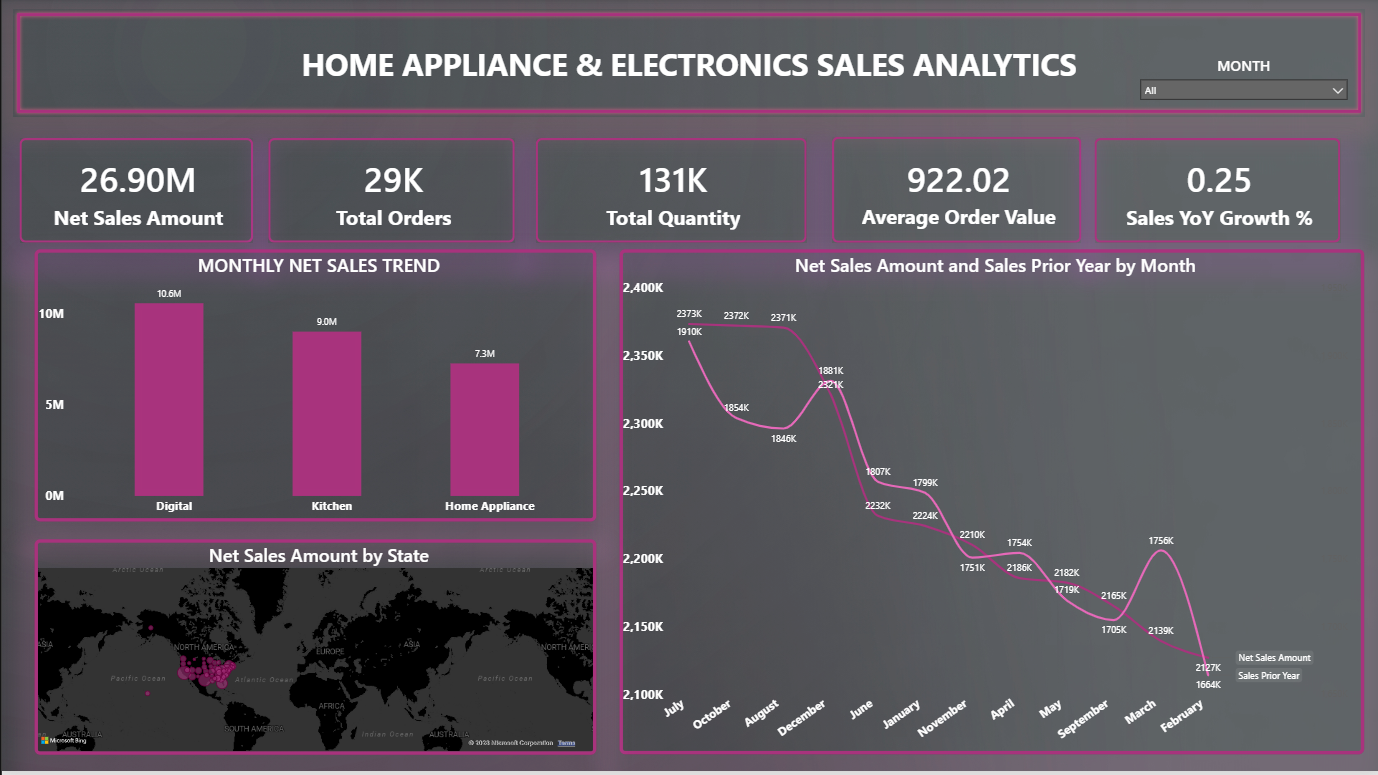

This screenshot's page, from the dashboard's own definition file:
{"tool":"powerbi","page":{"name":"EXECUTIVE SUMMARY","canvas":[1920,1080],"ordinal":0},"visuals":[{"type":"shape","title":"HOME APPLIANCE & ELECTRONICS SALES ANALYTICS","box":[16,16,1886,150],"z":0},{"type":"cardVisual","title":"Net Values Amount","fields":{"Data":["_MEASURES.Net Sales Amount"]},"box":[24,196,326,146],"z":1000},{"type":"cardVisual","fields":{"Data":["_MEASURES.Total Orders"]},"box":[372,196,344,146],"z":2000},{"type":"cardVisual","fields":{"Data":["_MEASURES.Average Order Value"]},"box":[1158,194,348,148],"z":3000},{"type":"cardVisual","fields":{"Data":["_MEASURES.Total Quantity"]},"box":[744,196,378,146],"z":4000},{"type":"cardVisual","fields":{"Data":["Calendar.Sales YoY Growth %"]},"box":[1525.2,195.5,343.7,146.1],"z":5000},{"type":"clusteredColumnChart","title":"MONTHLY NET SALES TREND ","fields":{"Y":["_MEASURES.Net Sales Amount"],"Category":["product.Product Group"]},"box":[46,350,784,380],"z":6000},{"type":"lineChart","fields":{"Y":["_MEASURES.Net Sales Amount"],"Y2":["Calendar.Sales Prior Year"],"Category":["Calendar.Month"]},"box":[861.6,350.6,1039.5,704.7],"z":7000},{"type":"slicer","title":"MONTH","fields":{"Values":["Calendar.Year-Month"]},"box":[1583.3,80,298.3,70],"z":8000},{"type":"map","fields":{"Size":["_MEASURES.Net Sales Amount"],"Category":["customers.State"]},"box":[45.3,755.4,784.2,300.5],"z":9000}]}

Visuals, with their boxes in screenshot pixels (x1, y1, x2, y2), scaled from the page's 1920x1080 canvas onto the 1378x775 screenshot:
"HOME APPLIANCE & ELECTRONICS SALES ANALYTICS" shape: <region>11, 11, 1365, 119</region>
"Net Values Amount" cardVisual: <region>17, 141, 251, 245</region>
cardVisual - _MEASURES.Total Orders: <region>267, 141, 514, 245</region>
cardVisual - _MEASURES.Average Order Value: <region>831, 139, 1081, 245</region>
cardVisual - _MEASURES.Total Quantity: <region>534, 141, 805, 245</region>
cardVisual - Calendar.Sales YoY Growth %: <region>1095, 140, 1341, 245</region>
"MONTHLY NET SALES TREND " clusteredColumnChart: <region>33, 251, 596, 524</region>
lineChart - _MEASURES.Net Sales Amount x Calendar.Sales Prior Year: <region>618, 252, 1364, 757</region>
"MONTH" slicer: <region>1136, 57, 1350, 108</region>
map - _MEASURES.Net Sales Amount x customers.State: <region>33, 542, 595, 758</region>
